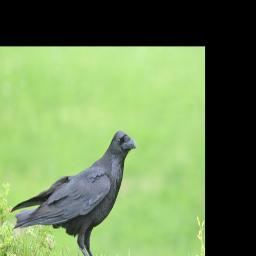Crow: (9, 129, 138, 256)
